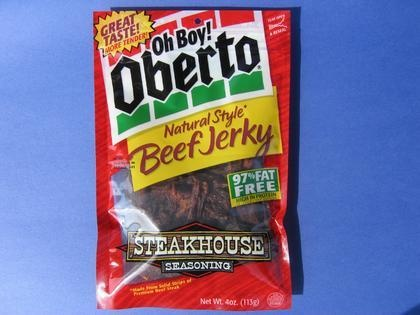grozi_78: (0, 0, 303, 312)
